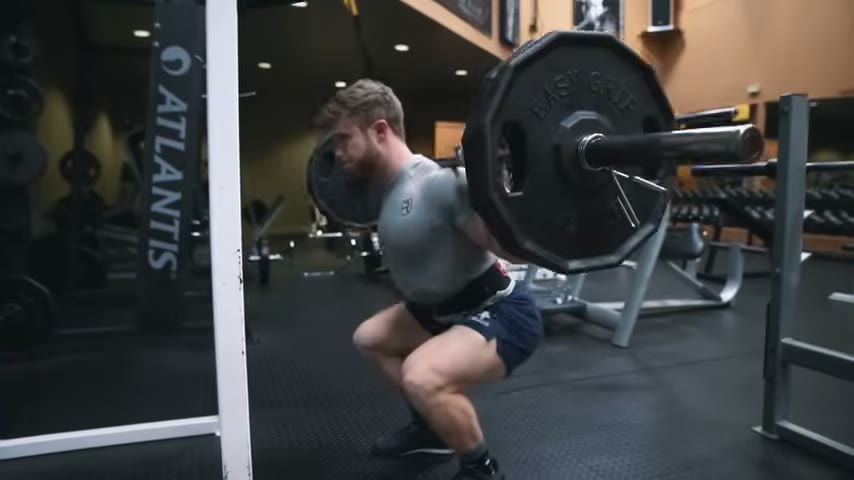barbell_plate_side: (298, 69, 402, 332)
